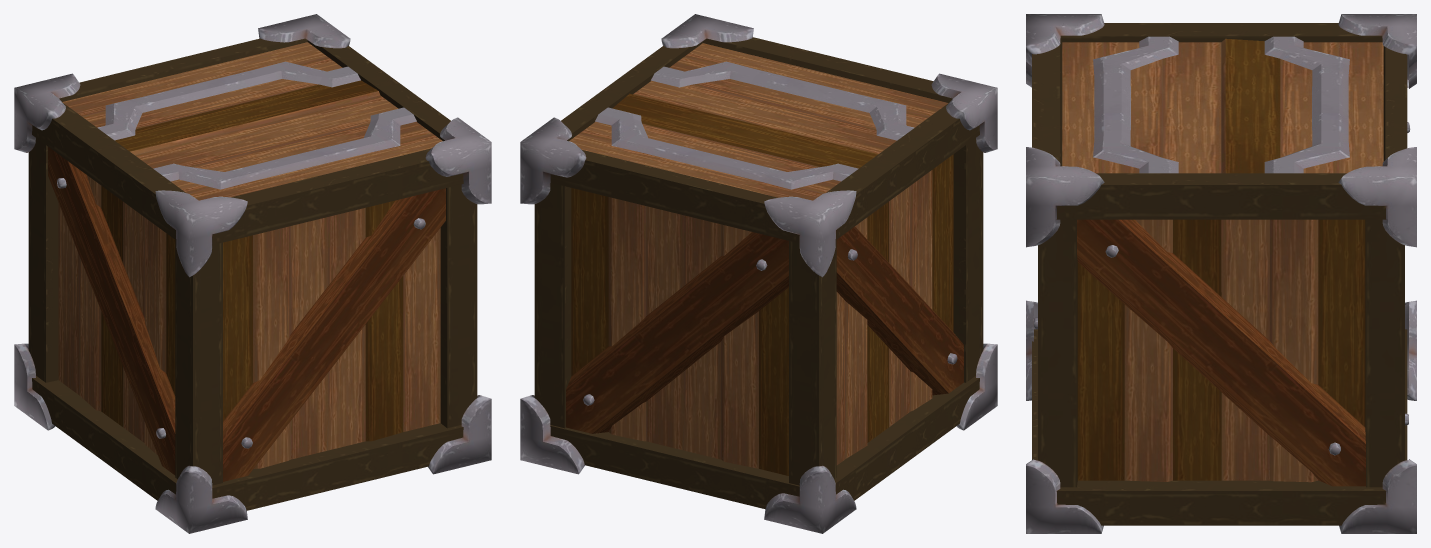
The model's file is Crate_Metal.glb.
3 renders of one model, left to right at view 1: azimuth 30°, elevation 25°; view 2: azimuth 150°, elevation 25°; view 3: azimuth 270°, elevation 25°, orthographic. The views are drawn at different scales.
Parts seen in each view (by area): view 1: Crate_Metal; view 2: Crate_Metal; view 3: Crate_Metal.
Boxes of the visible parts, box(x1,y1,x2,y2) form: Crate_Metal: box(14, 14, 491, 533); Crate_Metal: box(520, 14, 997, 533); Crate_Metal: box(1026, 14, 1416, 533).
Size of the model in its own units: 0.8639 by 0.8679 by 0.8659.
2 materials, 2 textured.
